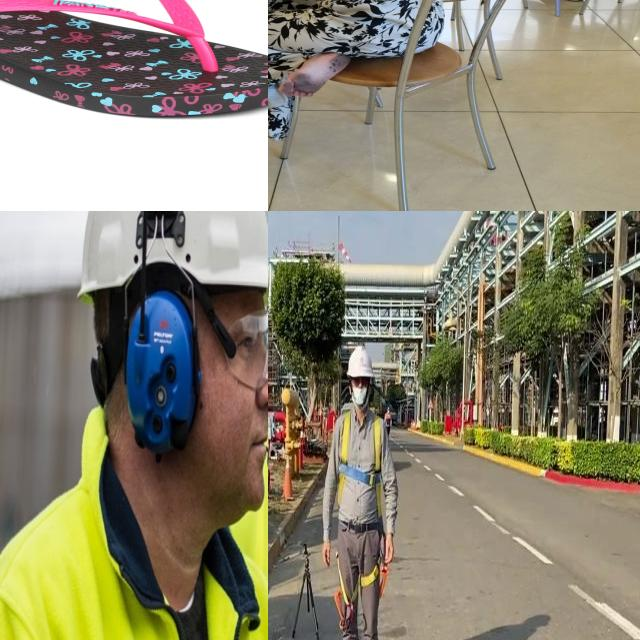Barefoots: (278, 51, 351, 97)
Ear-protection: (80, 211, 268, 541)
Harness: (338, 411, 383, 518), (334, 556, 389, 632)
Sandals: (0, 0, 268, 120)
